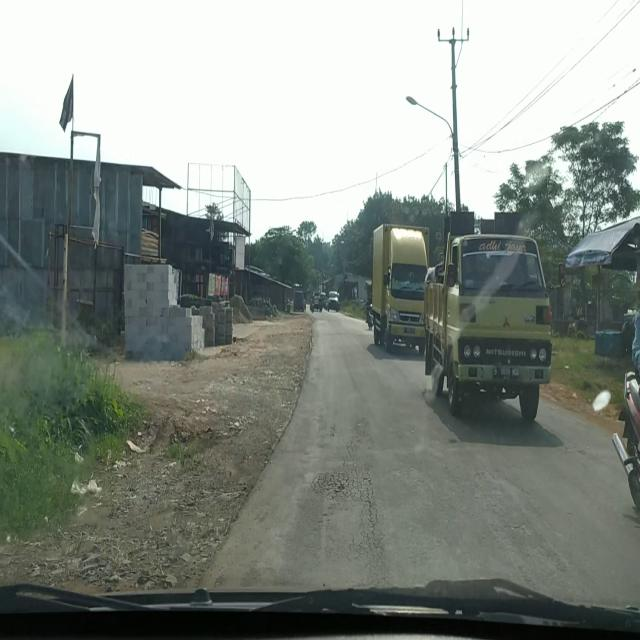Drain Hole: (311, 430, 385, 572)
